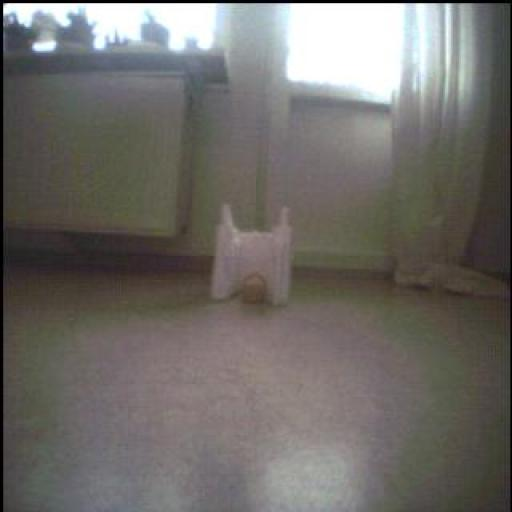Basket: (242, 269, 269, 311)
